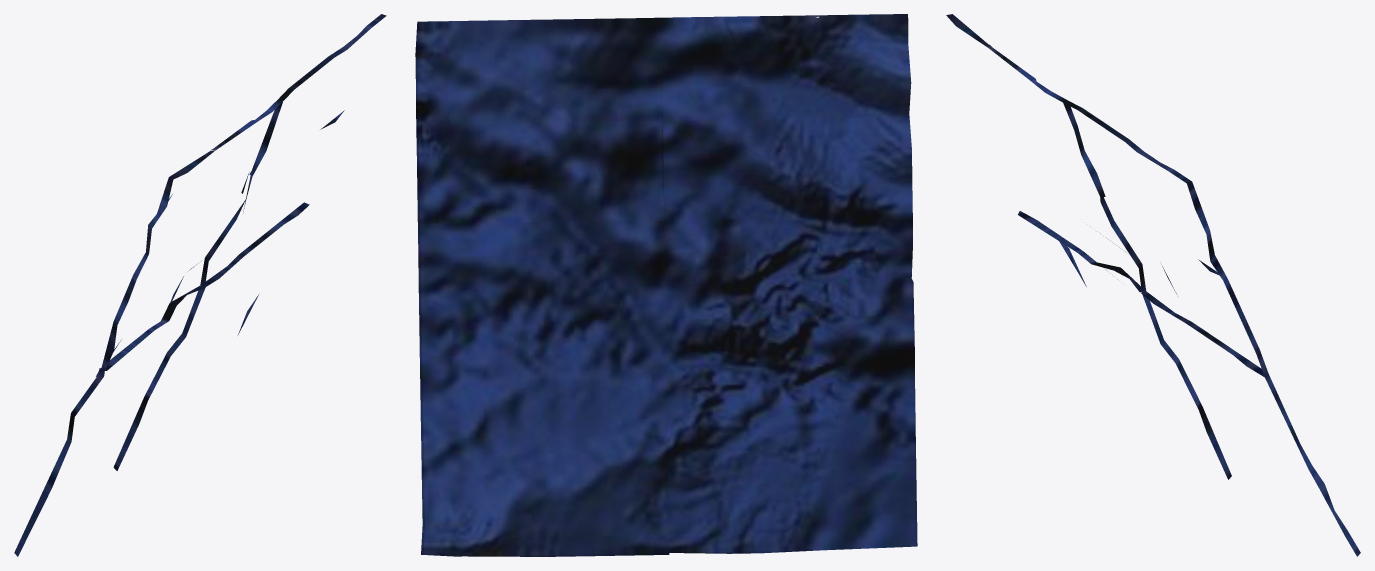
3 views of the same model, side by side, from view 1: azimuth 30°, elevation 25°; view 2: azimuth 150°, elevation 25°; view 3: azimuth 270°, elevation 25° (orthographic). The views are drawn at different scales.
Bounding box in the file's own units: 38497 × 36862 × 32449.
Materials: 1 (1 with a texture image).
